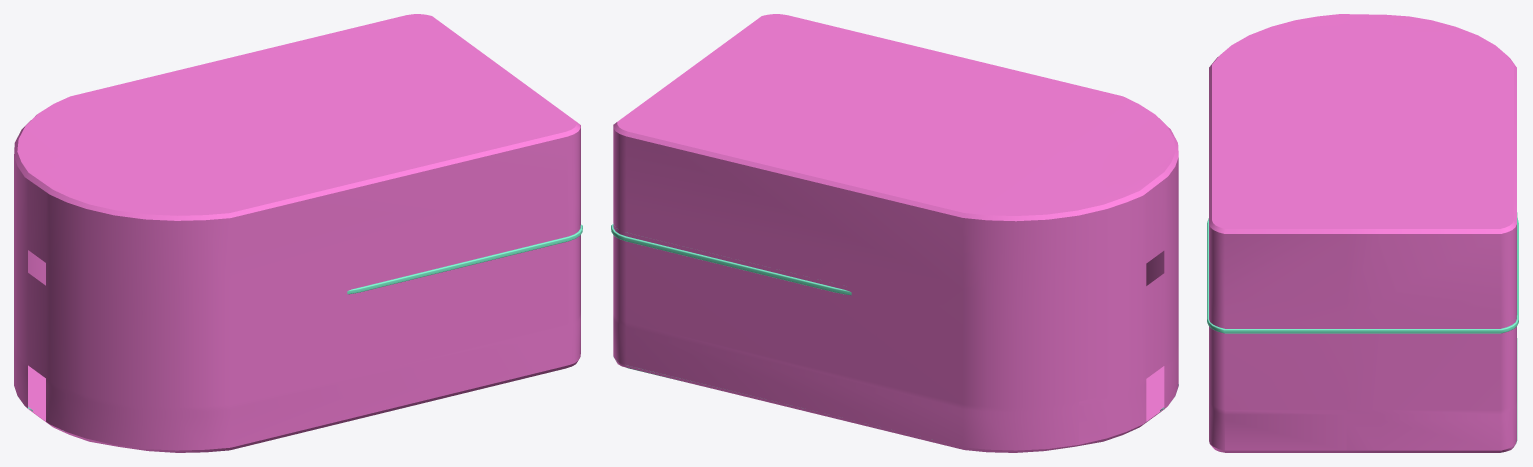
Rendered from NewLobbyWallsAndFloor.fbx.
3 renders of one model, left to right at view 1: azimuth 30°, elevation 25°; view 2: azimuth 150°, elevation 25°; view 3: azimuth 270°, elevation 25°, orthographic. The views are drawn at different scales.
Visible parts, largest first — view 1: Walls, Floor; view 2: Walls, Floor; view 3: Walls, Floor.
Part boxes in pixels (x1=…): Walls: x1=14, y1=14, x2=580, y2=452; Floor: x1=347, y1=224, x2=582, y2=294; Walls: x1=613, y1=14, x2=1178, y2=452; Floor: x1=611, y1=224, x2=851, y2=295; Walls: x1=1209, y1=14, x2=1516, y2=452; Floor: x1=1207, y1=218, x2=1518, y2=333.
Size of the model in its own units: 27.38 by 13.18 by 16.54.
